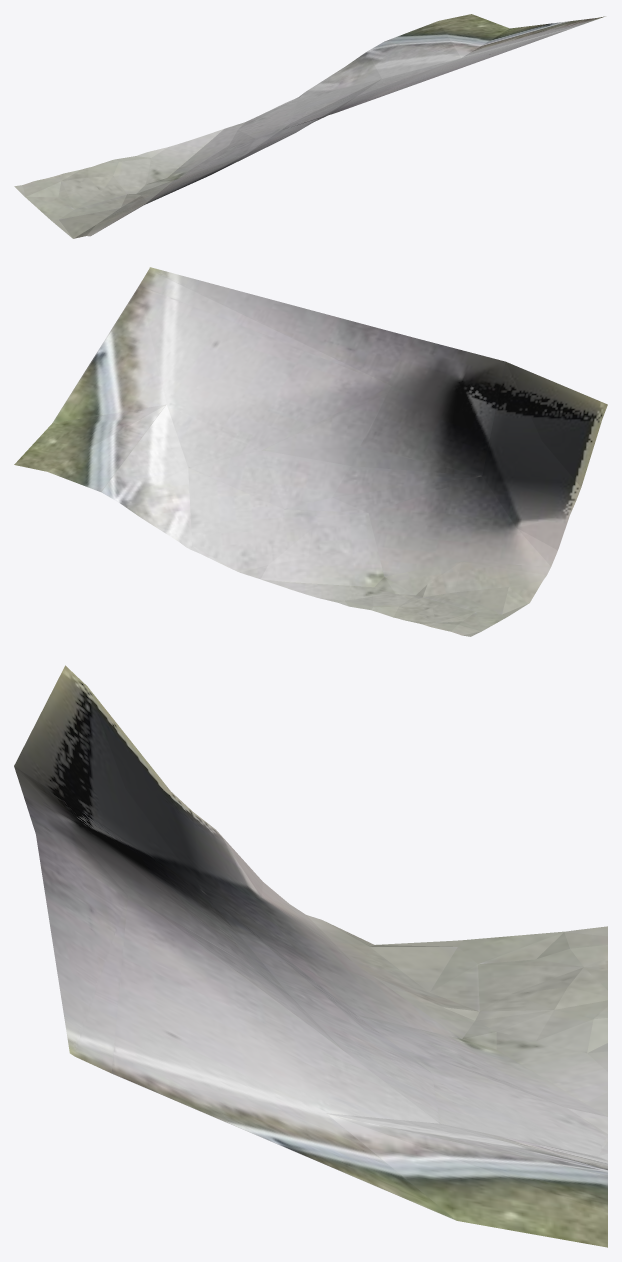
3 views of the same model, one above another, from view 1: azimuth 30°, elevation 25°; view 2: azimuth 150°, elevation 25°; view 3: azimuth 270°, elevation 25° (orthographic). The views are drawn at different scales.
Bounding box in the file's own units: 5.9 × 2.07 × 3.36.
Materials: 2 (2 with a texture image).
